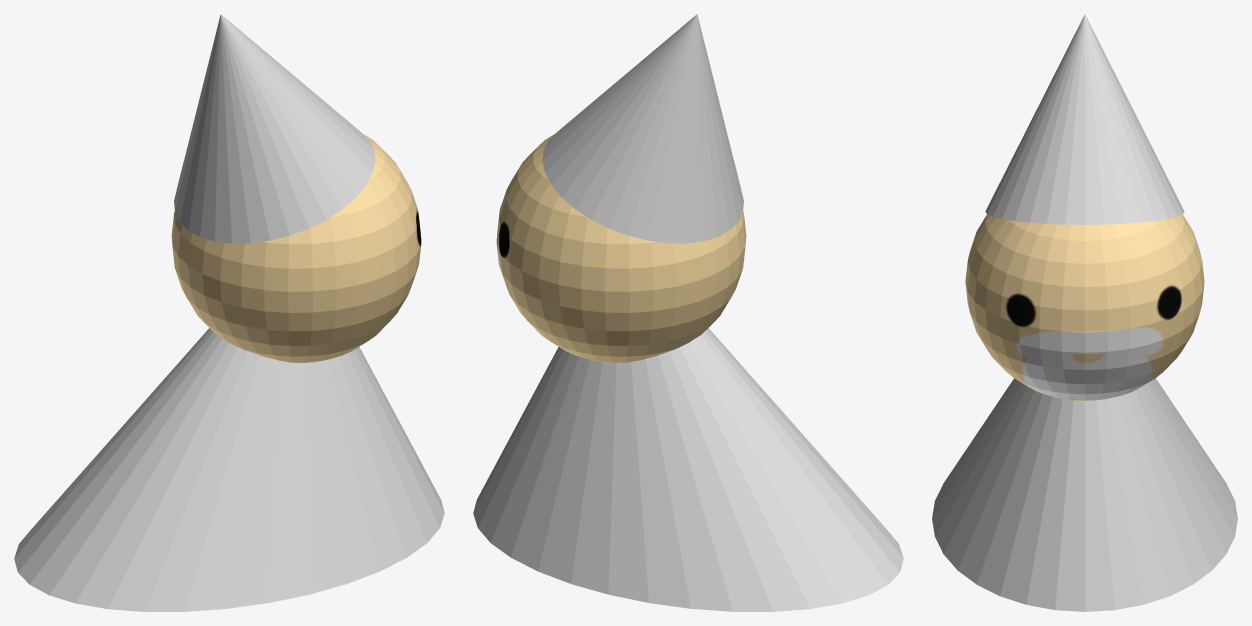
The model's file is wozard.glb.
3 views of the same model, side by side, from view 1: azimuth 30°, elevation 25°; view 2: azimuth 150°, elevation 25°; view 3: azimuth 270°, elevation 25° (orthographic). The views are drawn at different scales.
Visible parts, largest first — view 1: Cone, Sphere, Cone.001; view 2: Cone, Sphere, Cone.001; view 3: Cone, Sphere, Cone.001.
Part boxes in pixels (bbox=[...]): Cone: bbox=[14, 328, 444, 611]; Sphere: bbox=[171, 134, 421, 362]; Cone.001: bbox=[174, 14, 375, 243]; Cone: bbox=[473, 328, 903, 611]; Sphere: bbox=[496, 134, 746, 362]; Cone.001: bbox=[542, 14, 743, 243]; Cone: bbox=[932, 378, 1237, 611]; Sphere: bbox=[965, 214, 1204, 400]; Cone.001: bbox=[985, 14, 1184, 224].
Bounding box in the file's own units: 2.88 × 3.61 × 2.
Materials: 2 (1 with a texture image).
